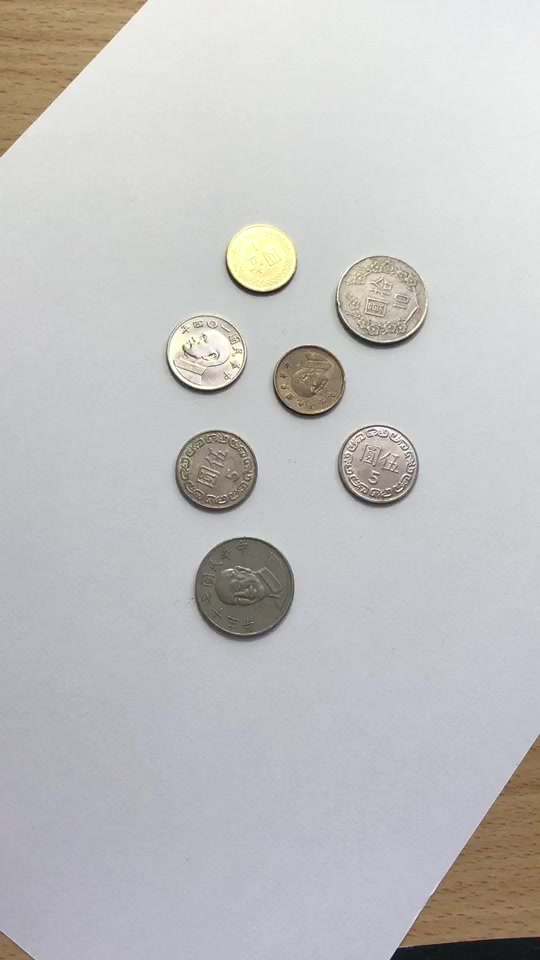1 dallar: (268, 339, 347, 421), (224, 220, 300, 298)
10 dallar: (186, 531, 299, 647), (331, 247, 439, 352)
5 dallar: (158, 307, 252, 398), (332, 420, 426, 511), (170, 424, 264, 515)
